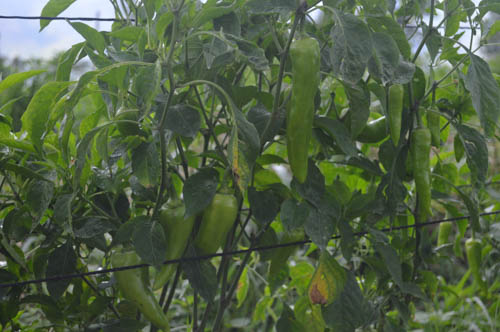ChiliPepper: (113, 249, 167, 324), (150, 206, 197, 290), (287, 40, 312, 179), (200, 195, 240, 261), (410, 130, 434, 215), (386, 86, 402, 145), (463, 237, 483, 272)
